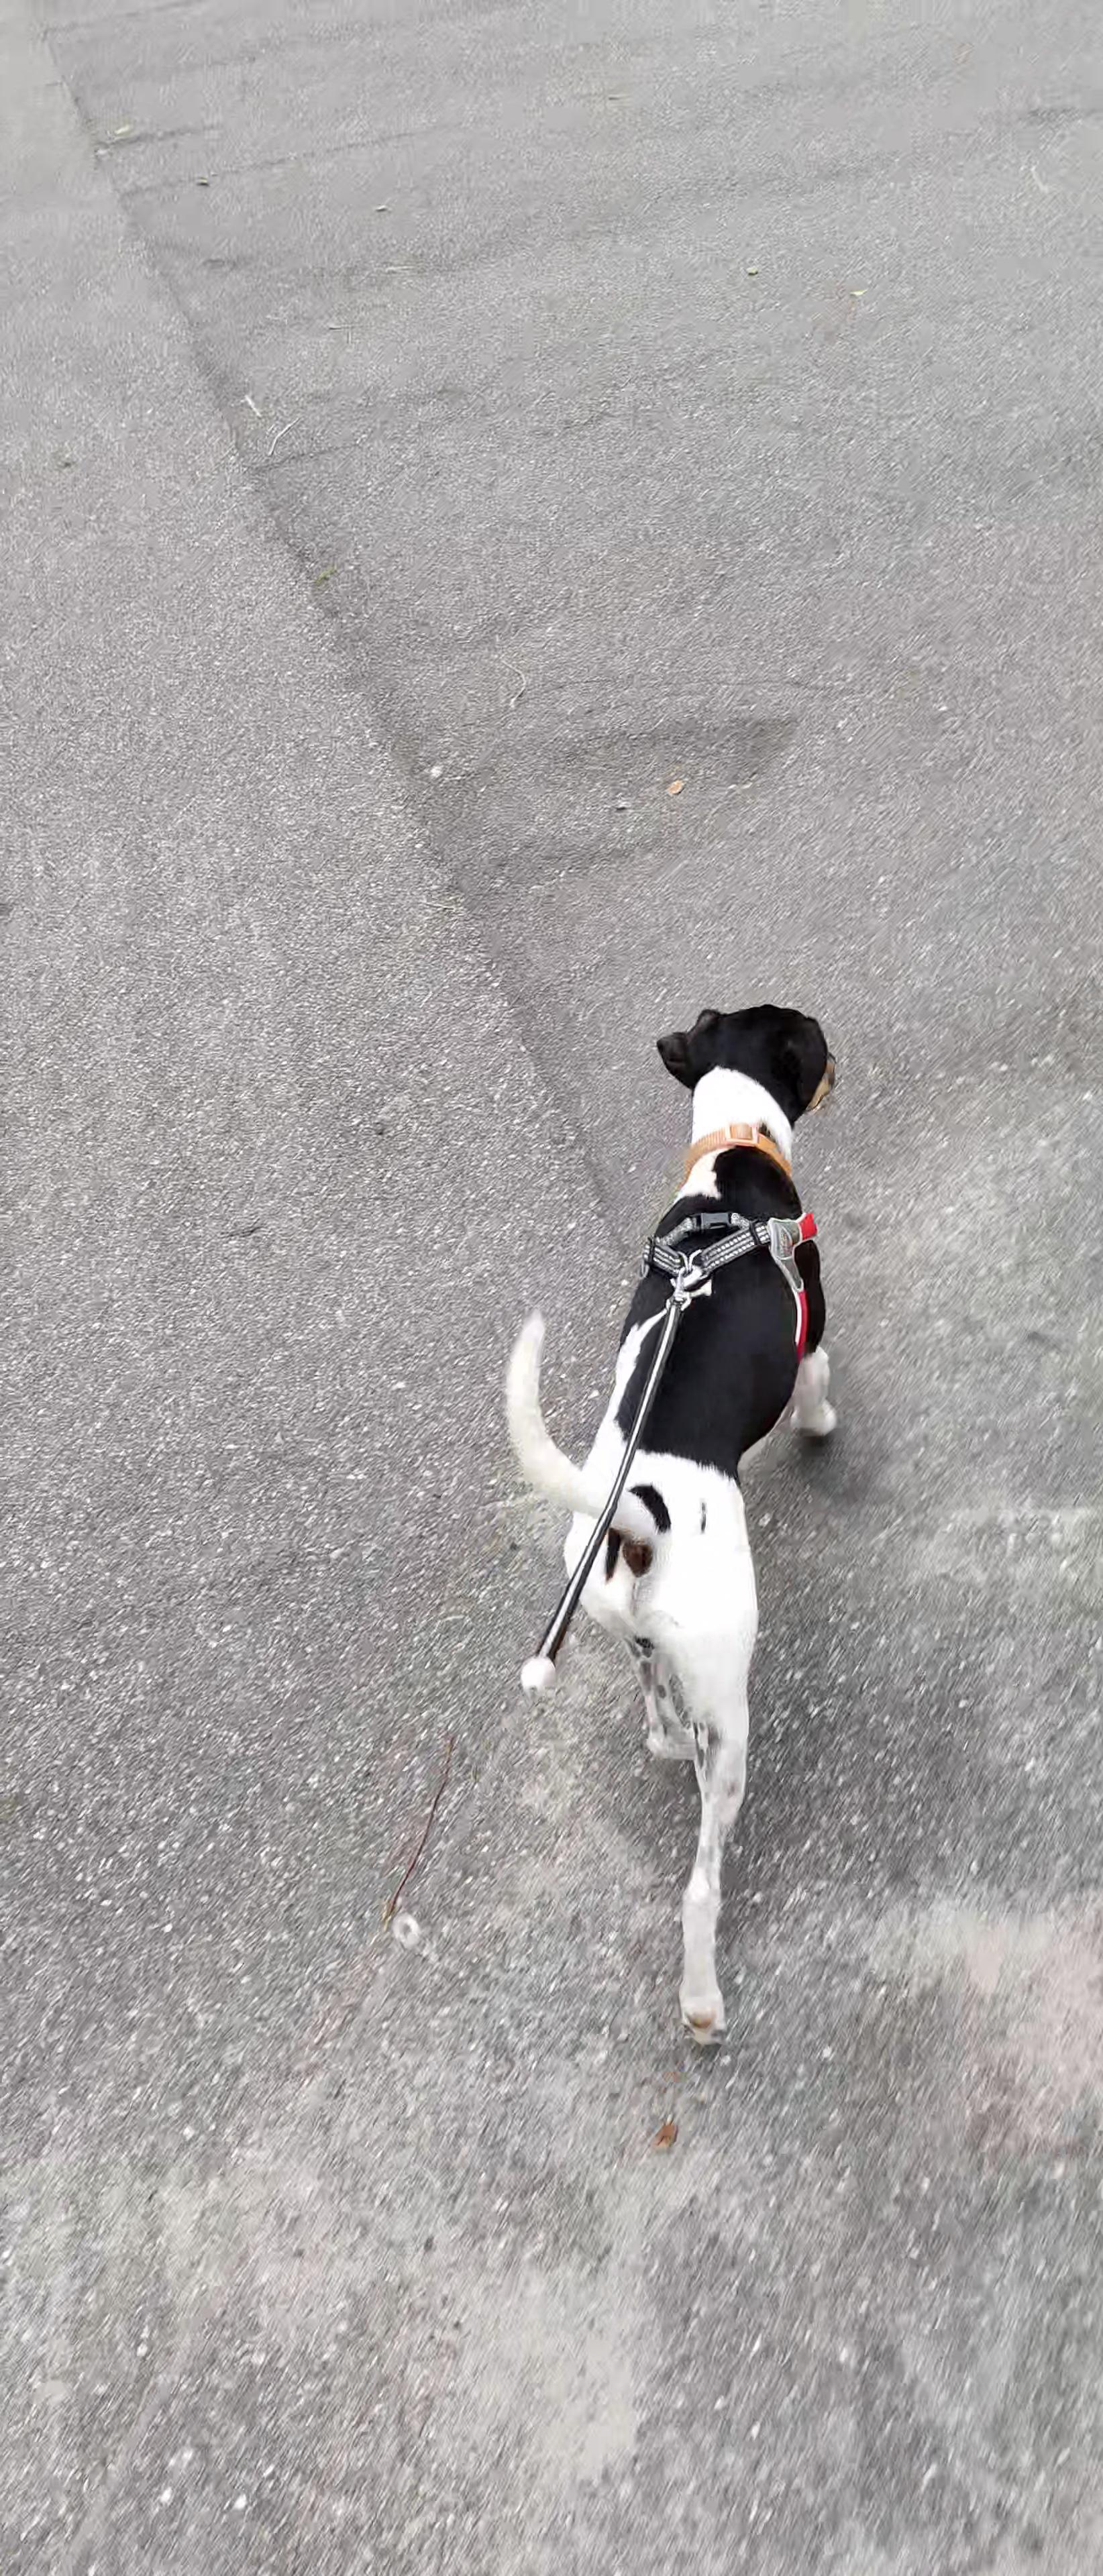Dog: (490, 999, 851, 2067)
